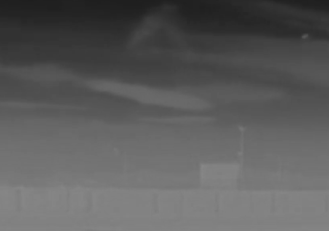Target: (302, 34, 307, 39)
